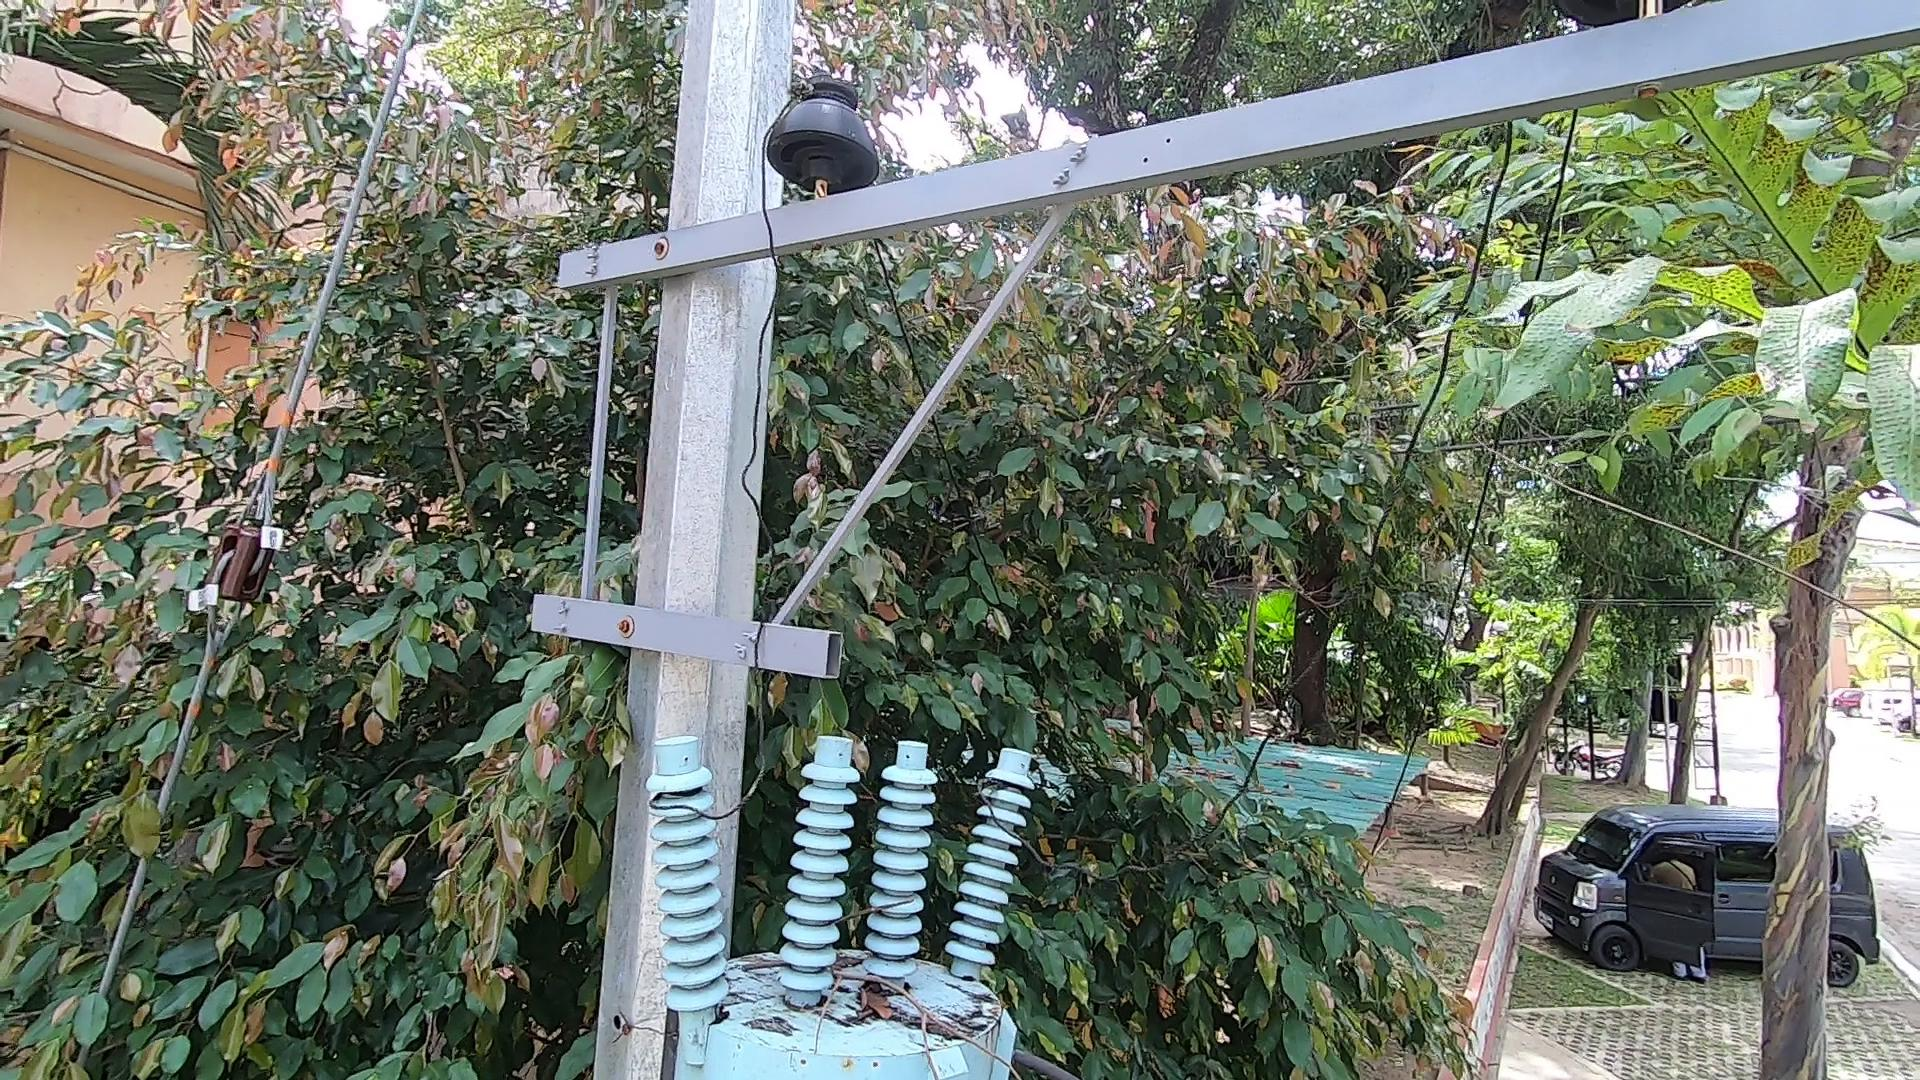leaf: (855, 971, 910, 1029), (827, 939, 869, 975)
tree branch: (742, 927, 1025, 1080)
